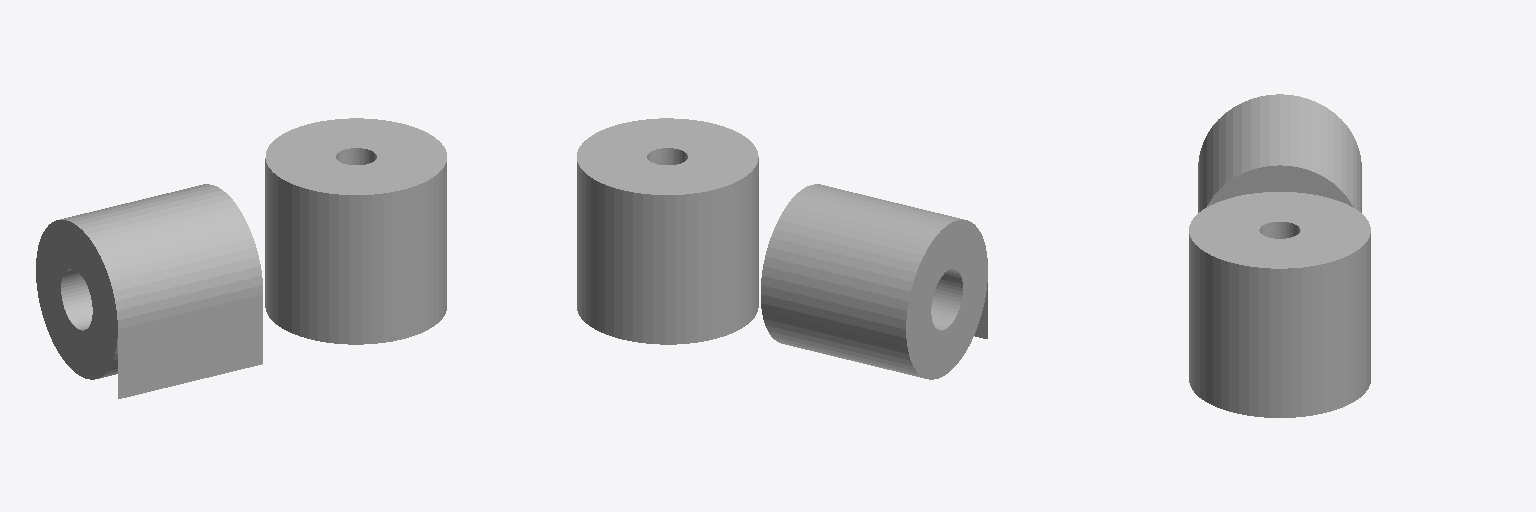
The model's file is mpm_f01__Toilet_paper.obj.
3 renders of one model, left to right at view 1: azimuth 30°, elevation 25°; view 2: azimuth 150°, elevation 25°; view 3: azimuth 270°, elevation 25°, orthographic.
Parts seen in each view (by area): view 1: mpm_f01_Toilet_paper_2, mpm_f01_Toilet_paper_1; view 2: mpm_f01_Toilet_paper_2, mpm_f01_Toilet_paper_1; view 3: mpm_f01_Toilet_paper_2, mpm_f01_Toilet_paper_1.
Part boxes in pixels (bbox=[...]): mpm_f01_Toilet_paper_2: bbox=[265, 118, 446, 344]; mpm_f01_Toilet_paper_1: bbox=[36, 184, 262, 398]; mpm_f01_Toilet_paper_2: bbox=[577, 118, 758, 344]; mpm_f01_Toilet_paper_1: bbox=[761, 184, 987, 379]; mpm_f01_Toilet_paper_2: bbox=[1189, 192, 1370, 417]; mpm_f01_Toilet_paper_1: bbox=[1198, 94, 1361, 212].
Size of the model in its own units: 249 by 99.13 by 109.